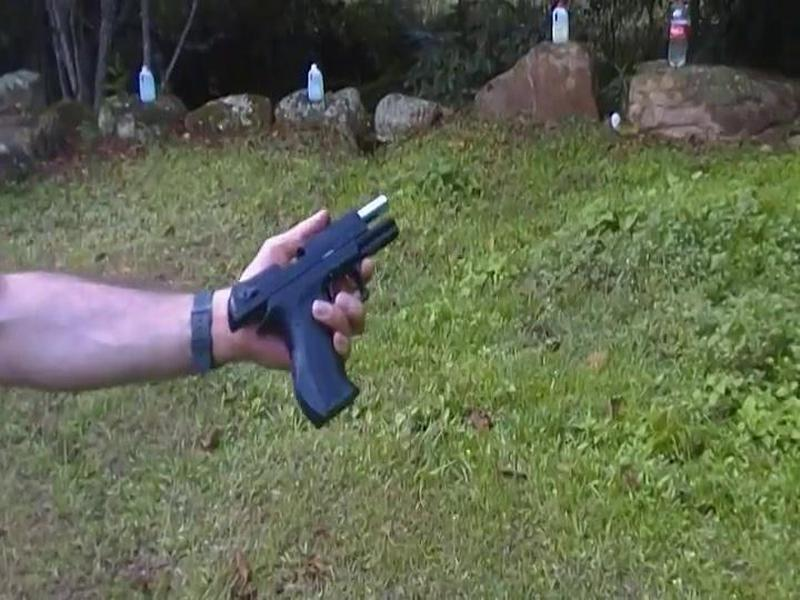Pistola: (204, 168, 426, 434)
